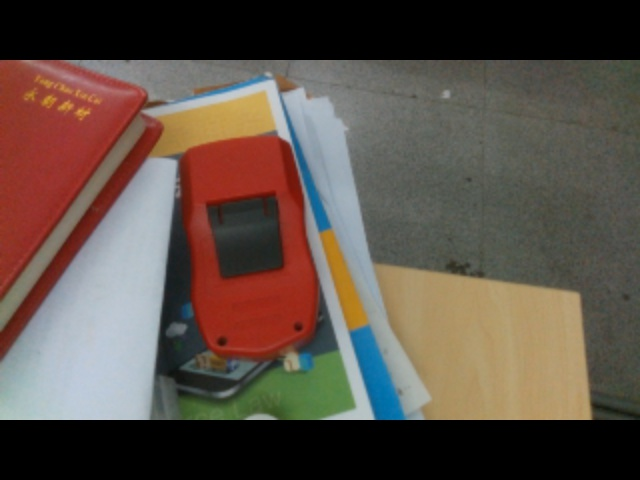Multimeter: (177, 132, 319, 360)
Screw holes: (291, 321, 305, 333), (216, 336, 229, 346)
